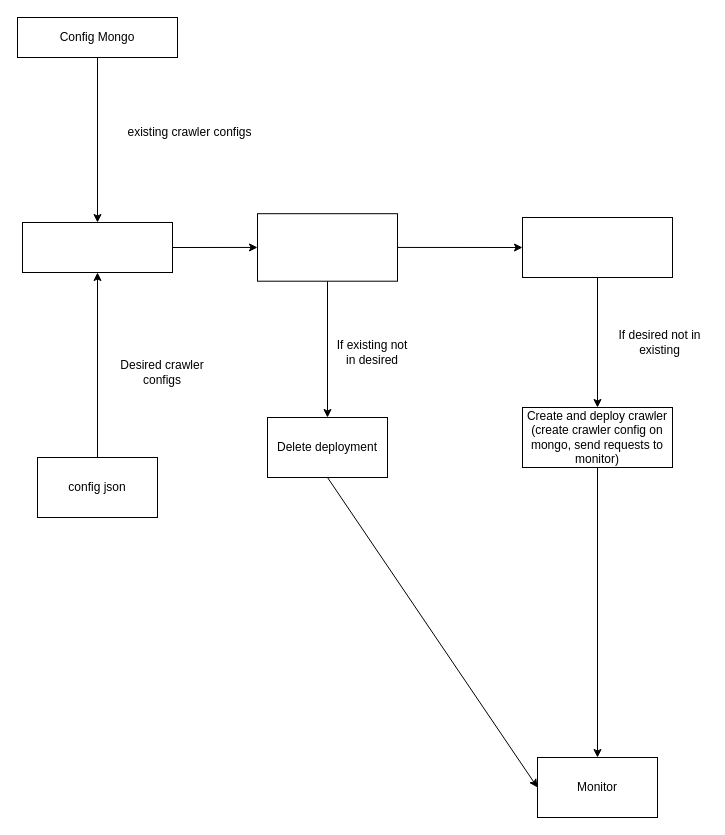
Some shapes in this 725 by 835 pixel diagram are drawn without their labels. Each missing label, with the box of its shape:
Check any desired not in existing: (522, 216, 672, 278)
check any existing not in desired: (256, 213, 398, 281)
orchestrator: (22, 222, 172, 272)
